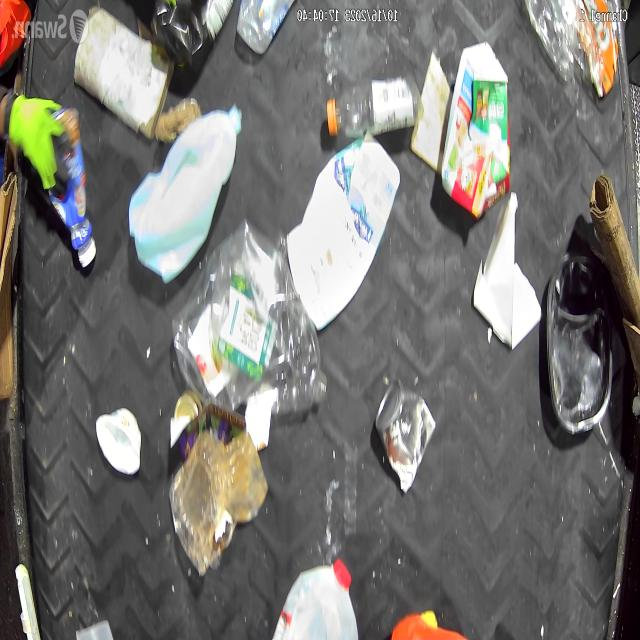can: (368, 375, 436, 496)
milk_jug: (287, 135, 398, 328), (131, 95, 244, 274), (275, 551, 361, 640)
non_white_jug: (439, 45, 510, 211)
plastic_bottle: (176, 233, 330, 408), (326, 67, 420, 145)
